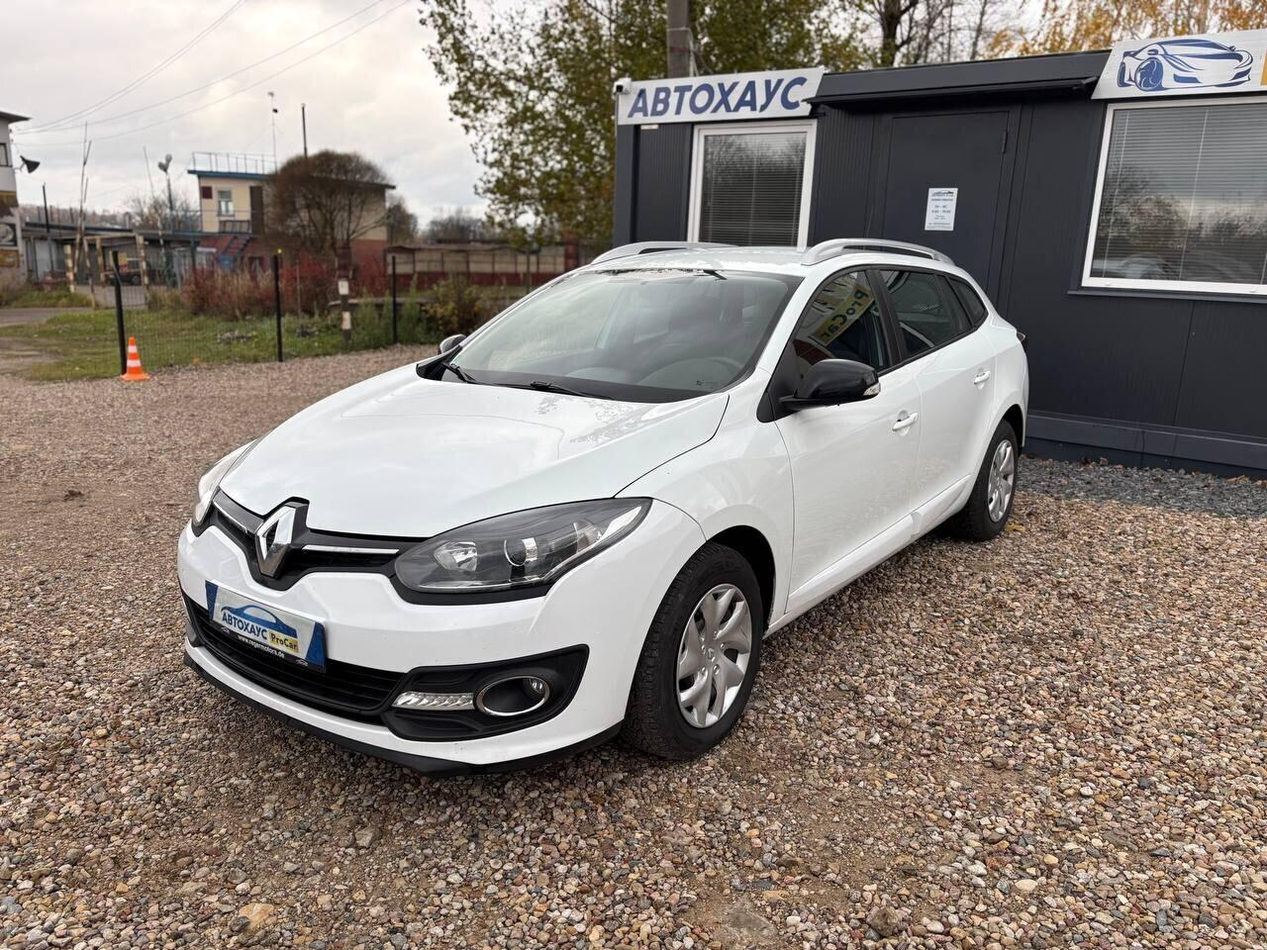Megane_2014-2016: (174, 240, 1039, 767)
